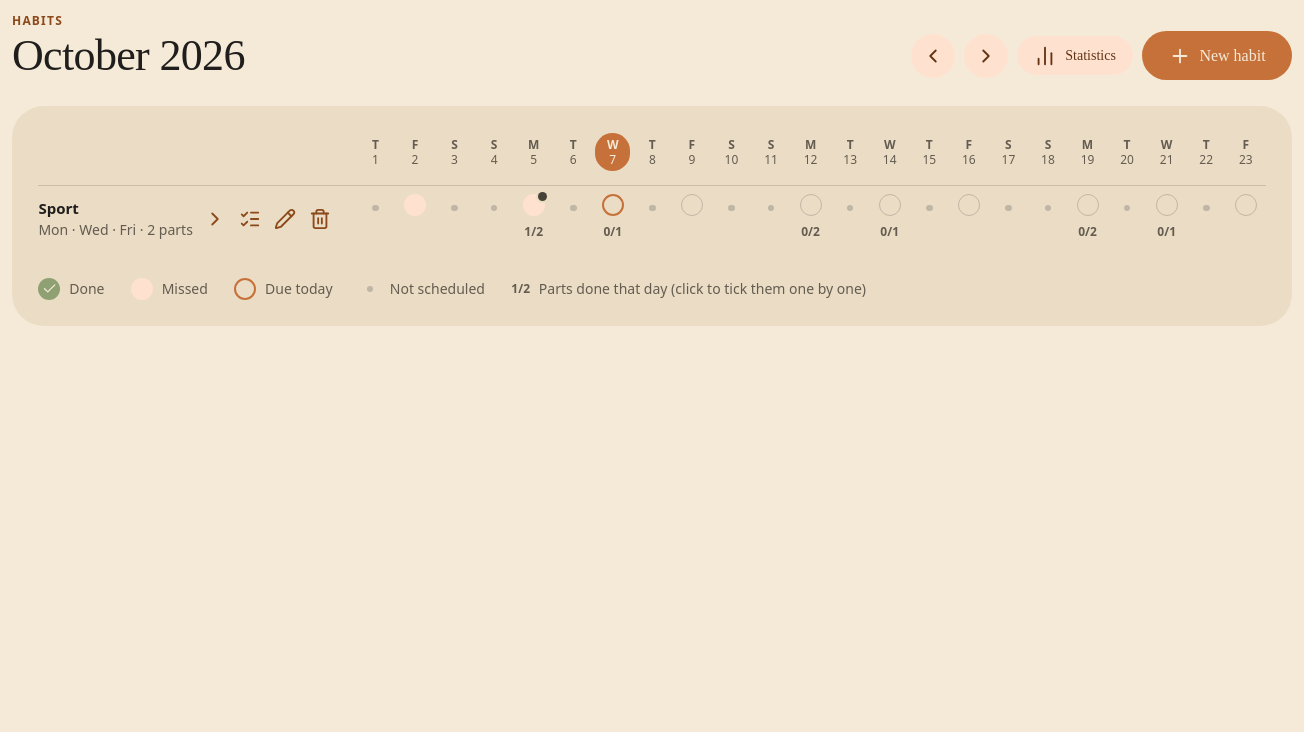
Test case: notes on the parts of a habit › changes the cell at once, before the server has answered
Expected: the table is shown, [38,133,1266,252]
Click the button named "Show parts of Sport" at x=215, y=219, box [197,201,232,236]
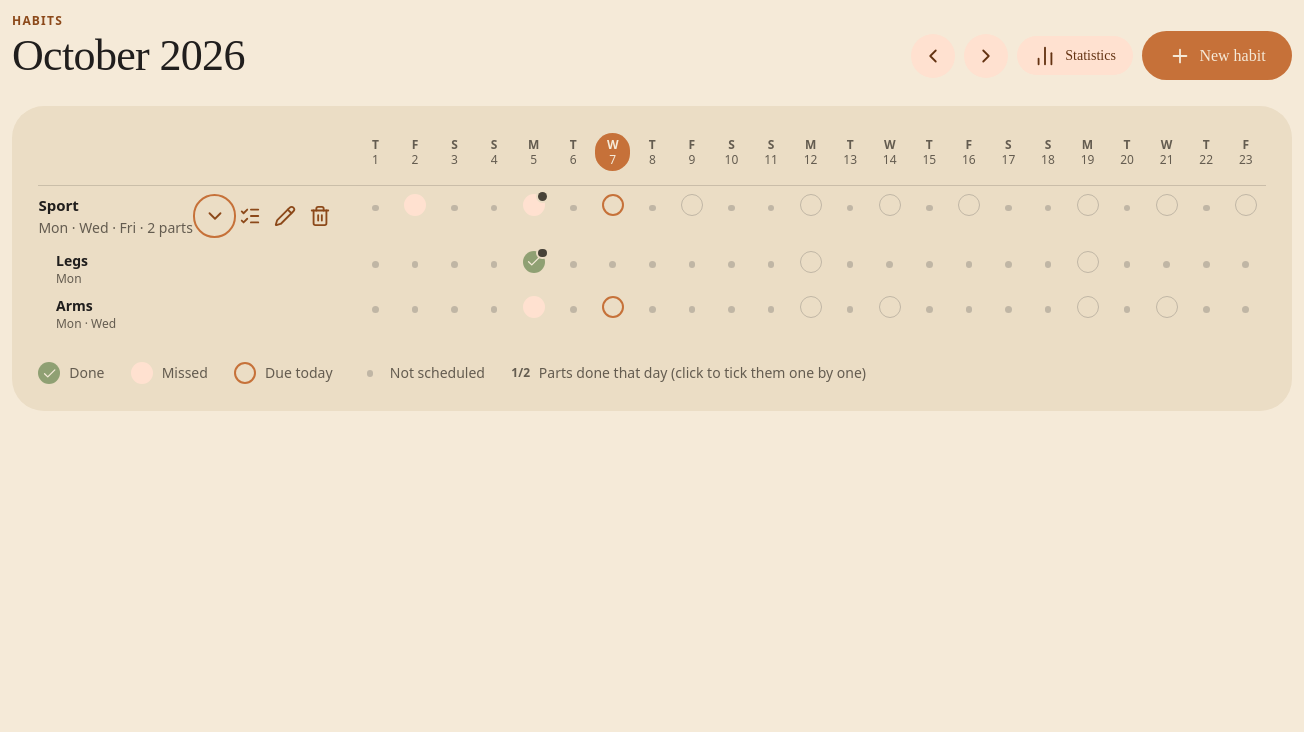
Hover over the button named "Sport: Arms, Wed 7 Oct" at x=613, y=307, box [602,296,624,318]
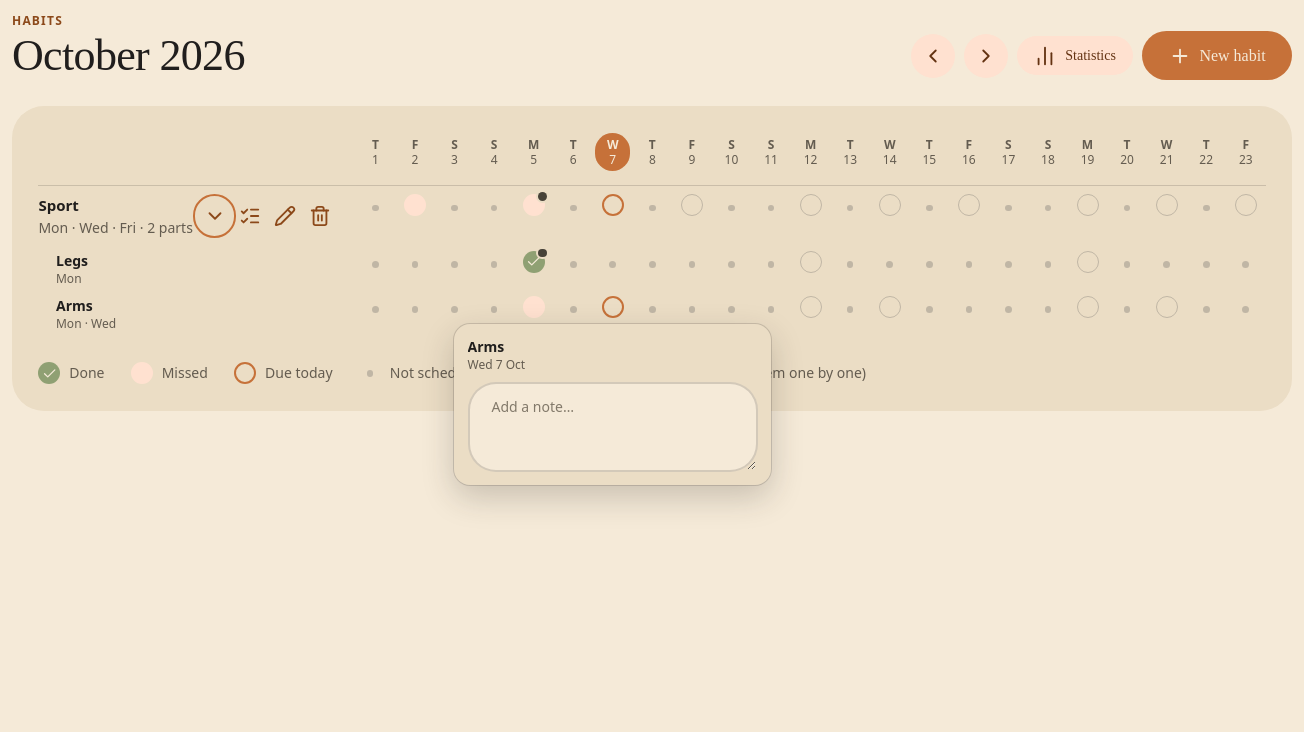
Type "felt heavy" into the text box named "Note for Arms, Wed 7 Oct" at x=613, y=427, box [468,382,758,472]
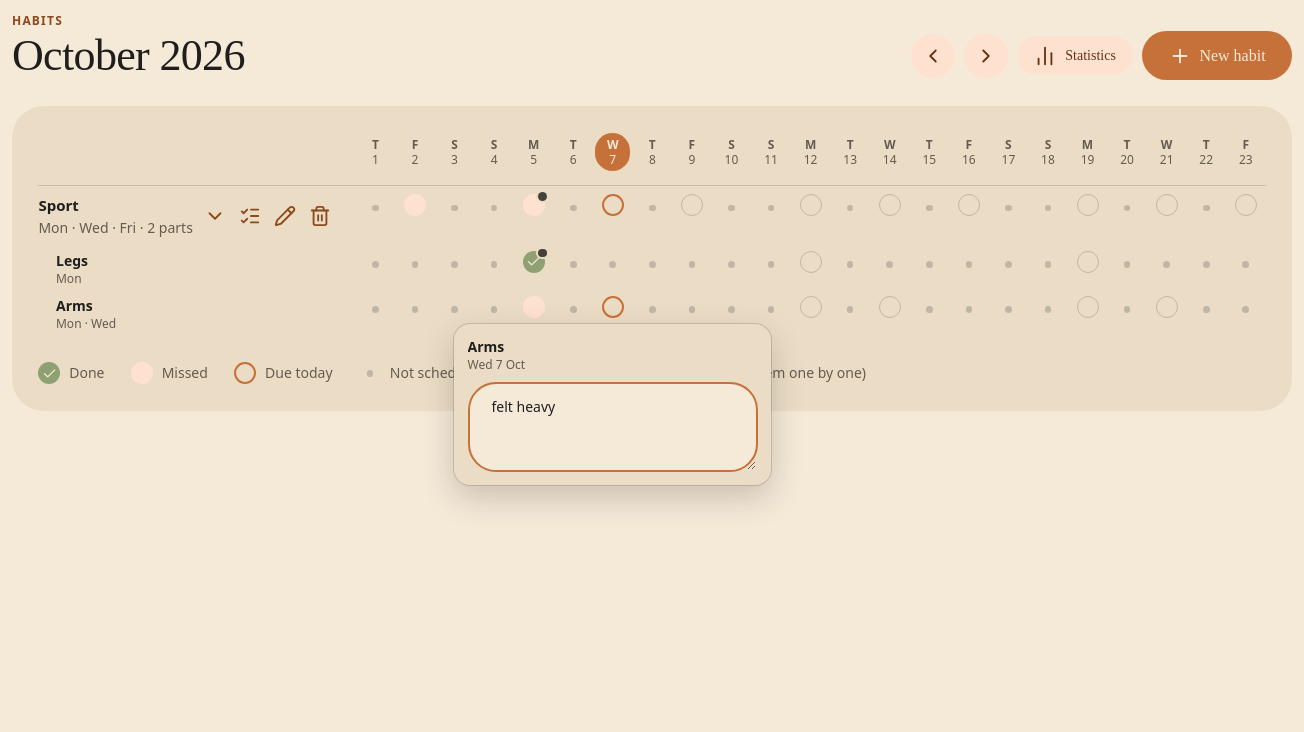
Press Tab
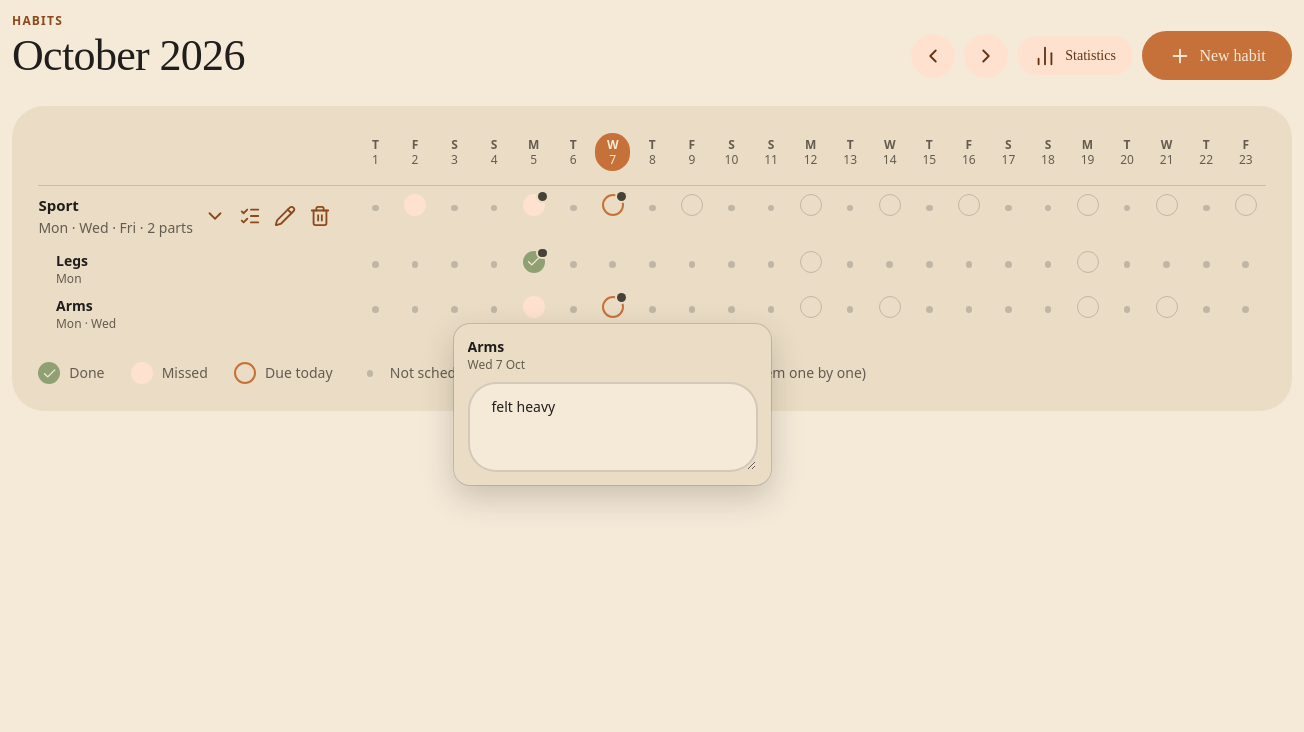
Expected: the button named "Sport: Arms, Wed 7 Oct. Note: felt heavy" is shown, [602,296,624,318]
